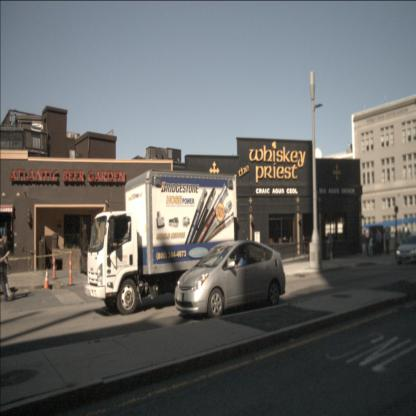cone: (67, 249, 75, 287), (51, 249, 58, 280), (43, 268, 50, 290)
